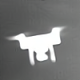plane: (4, 25, 69, 66)
